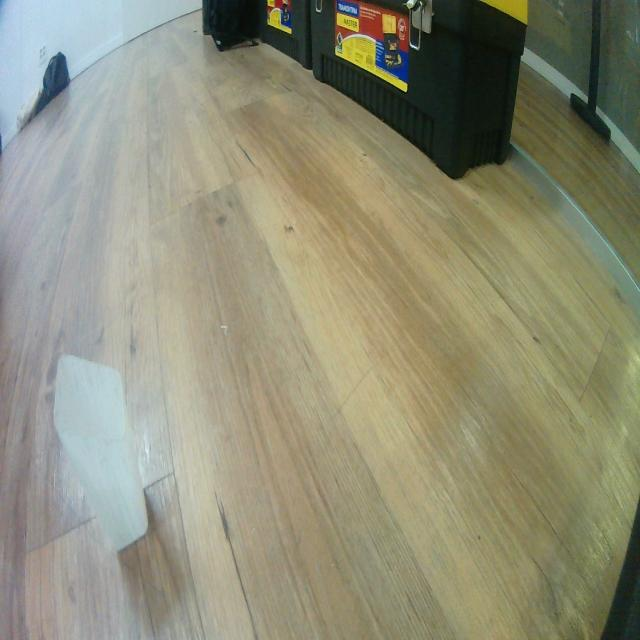erva_daninha: (53, 355, 149, 552)
